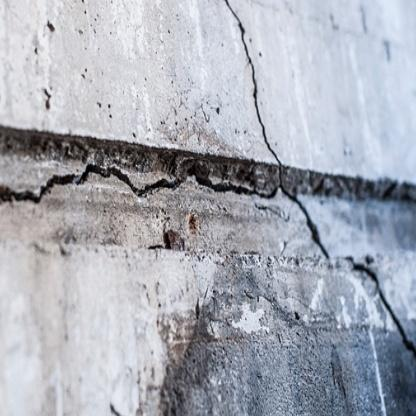Cracks: (0, 0, 335, 265), (343, 253, 416, 404)
